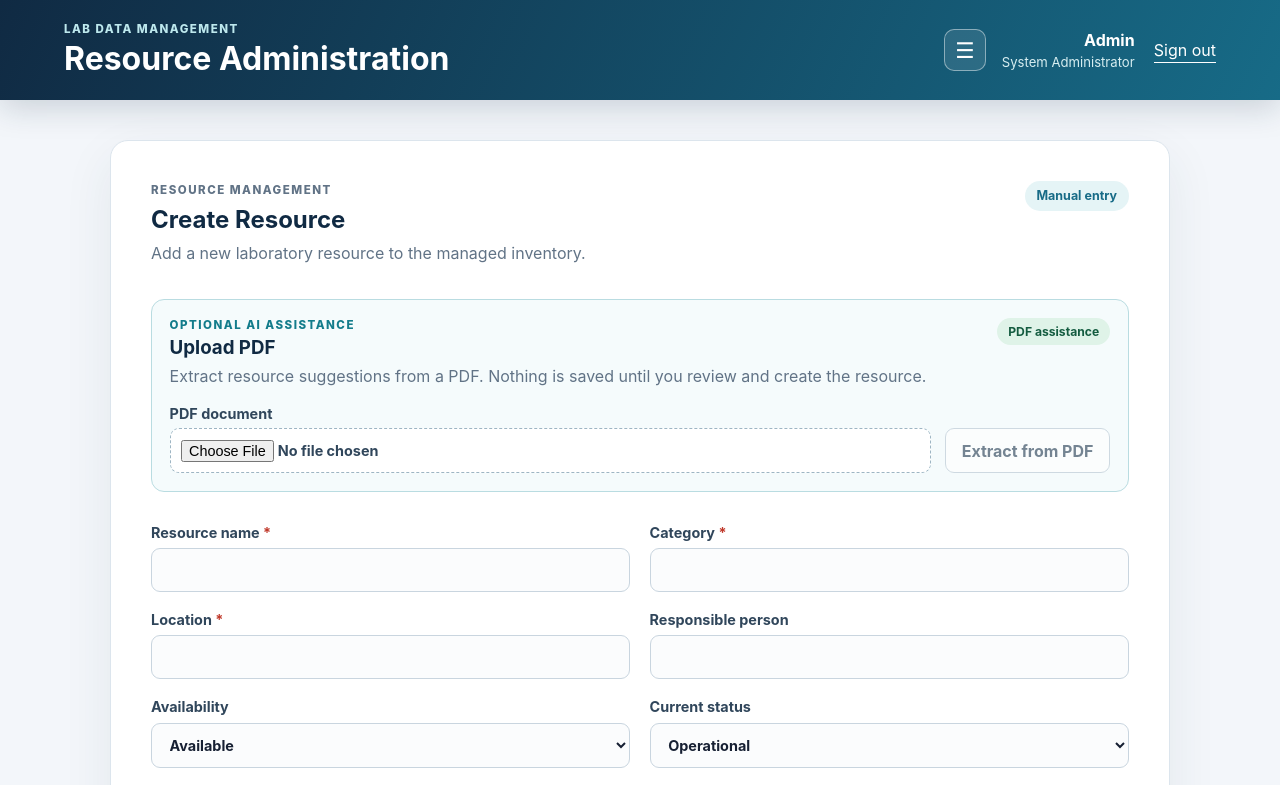
it: App authorization UI › lets an administrator open the resource archive from navigation
The width and height of the screenshot is (1280, 785).
Click the button named "open navigation". click: x=965, y=50
box: 944,29 -> 986,71
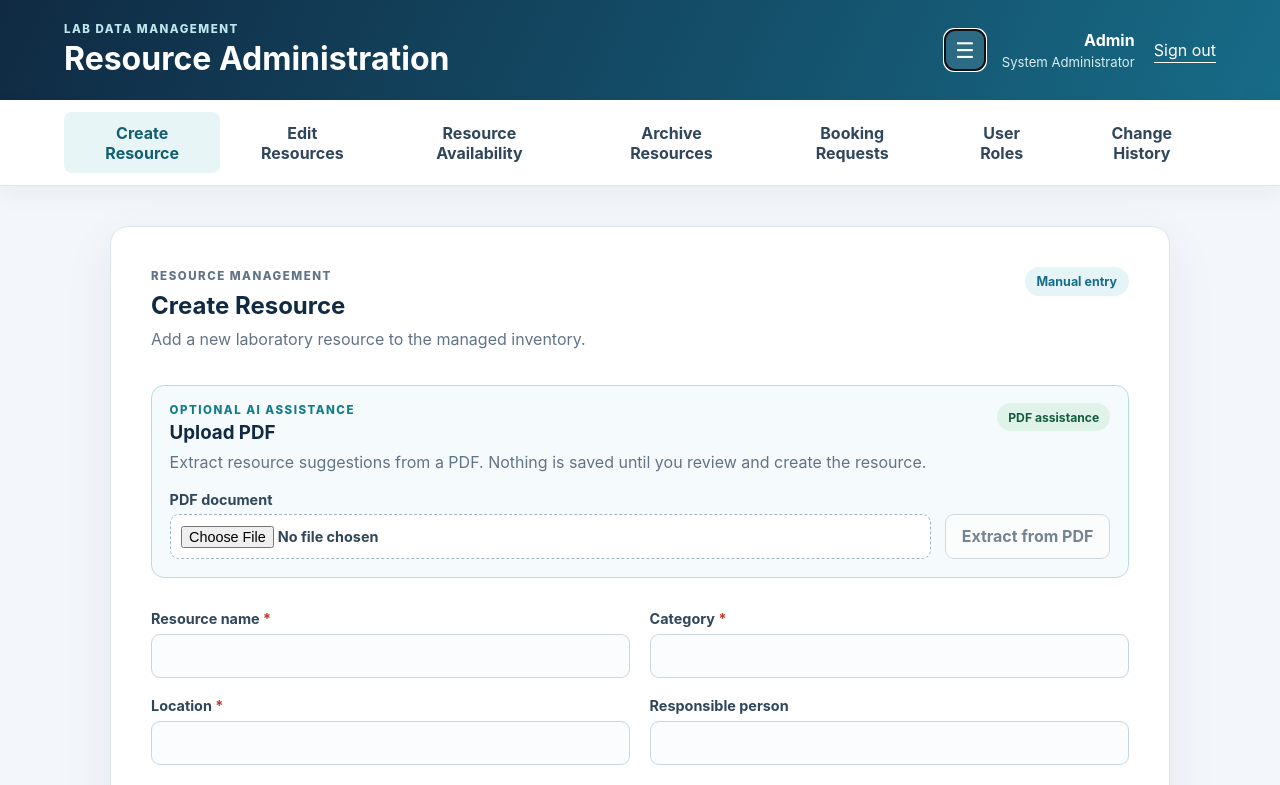
Click the button "Archive Resources". click: x=672, y=143
box: 585,112 -> 758,173
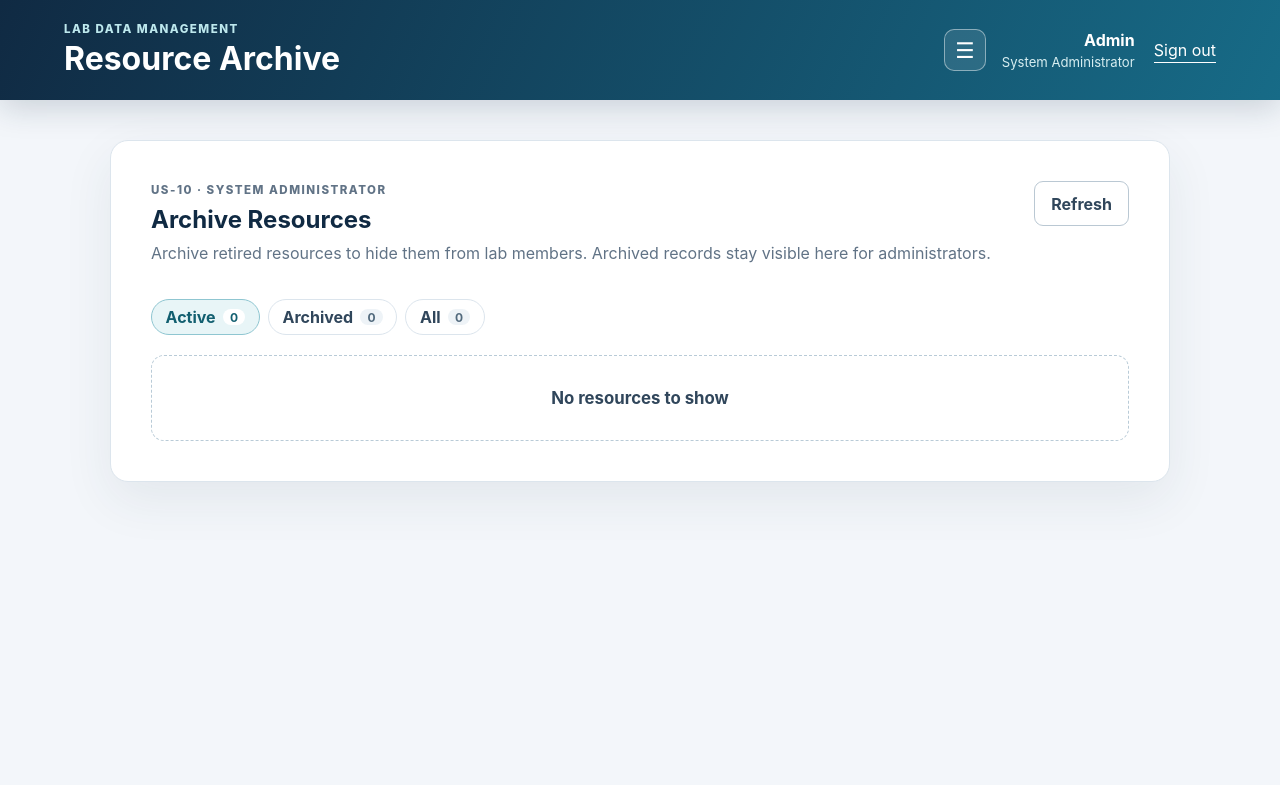
Result: the heading "Archive Resources" is shown at 151,205 -> 372,234
Result: the heading "Resource Archive" is shown at 64,39 -> 340,78
